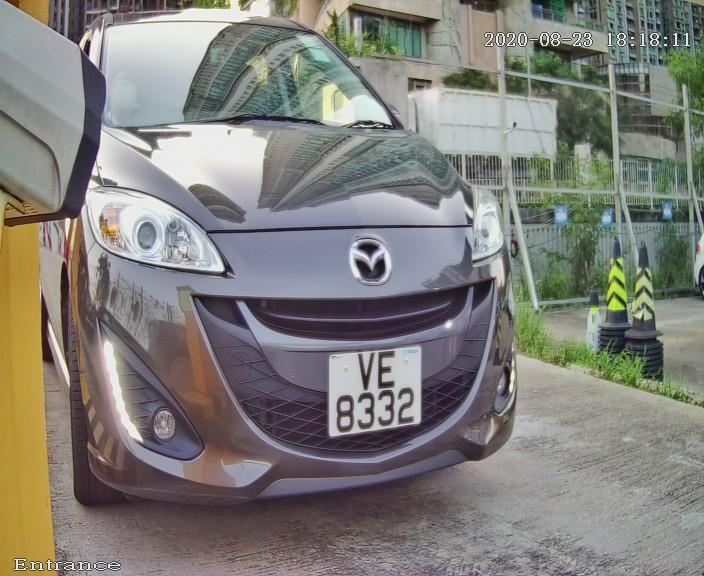Car: (16, 1, 560, 561)
License Plate: (305, 332, 441, 462)
